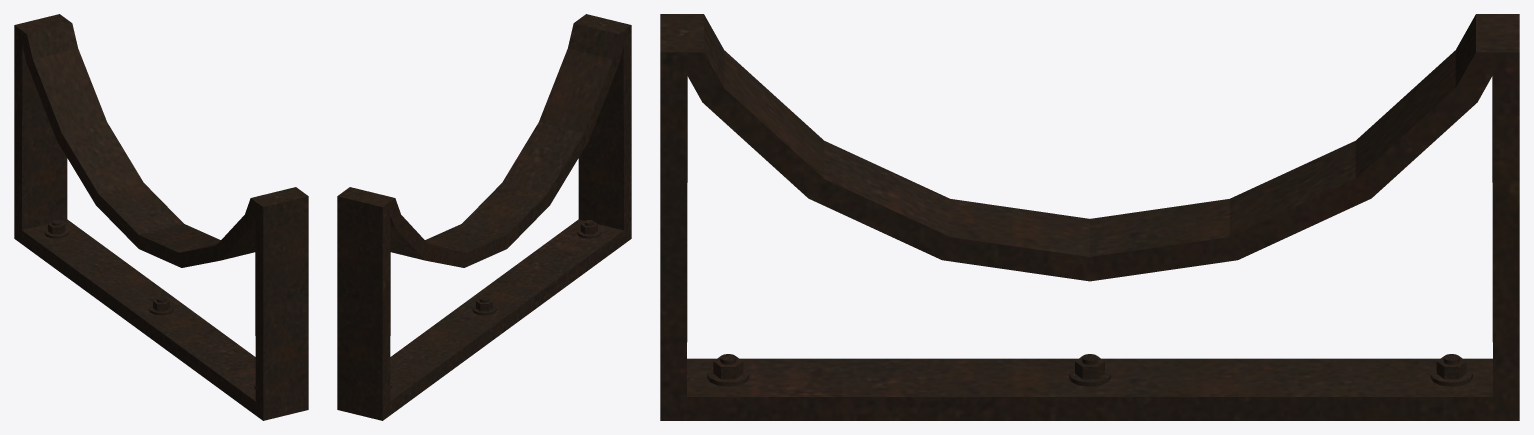
The model's file is stand_mx_1.dae.
The picture shows the model from 3 angles, left to right: view 1: azimuth 30°, elevation 25°; view 2: azimuth 150°, elevation 25°; view 3: azimuth 270°, elevation 25°; orthographic projection. The views are drawn at different scales.
Parts seen in each view (by area): view 1: stand_mx_1; view 2: stand_mx_1; view 3: stand_mx_1.
Part boxes in pixels (x1,y1,x2,y2): stand_mx_1: (14, 14, 308, 420); stand_mx_1: (337, 14, 631, 420); stand_mx_1: (660, 14, 1519, 420).
Bounding box in the file's own units: 0.2 × 1.9 × 0.9.
Materials: 1 (1 with a texture image).
